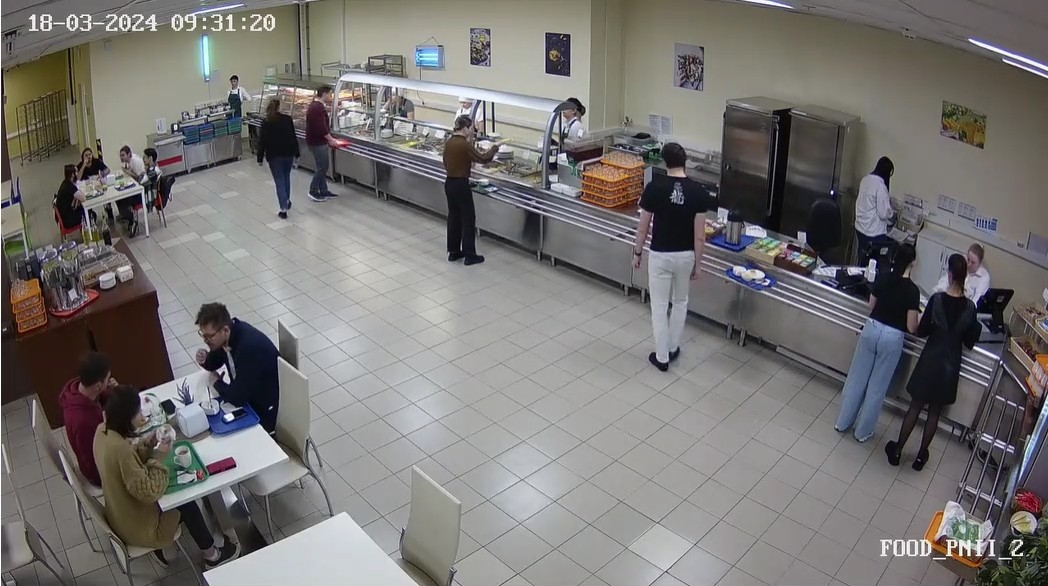Na_Kasse: (737, 223, 949, 444), (826, 242, 1011, 470)
Personal: (844, 147, 901, 260), (555, 93, 594, 155), (968, 241, 995, 303), (223, 66, 252, 123), (449, 96, 481, 115)
Vybiraet: (631, 139, 712, 382), (441, 110, 496, 270), (303, 75, 347, 201), (258, 96, 301, 220)
Za_Stolom: (191, 296, 288, 437), (97, 377, 173, 551), (47, 353, 129, 472), (48, 156, 87, 234), (137, 145, 175, 215), (71, 133, 106, 187), (117, 136, 144, 182)
